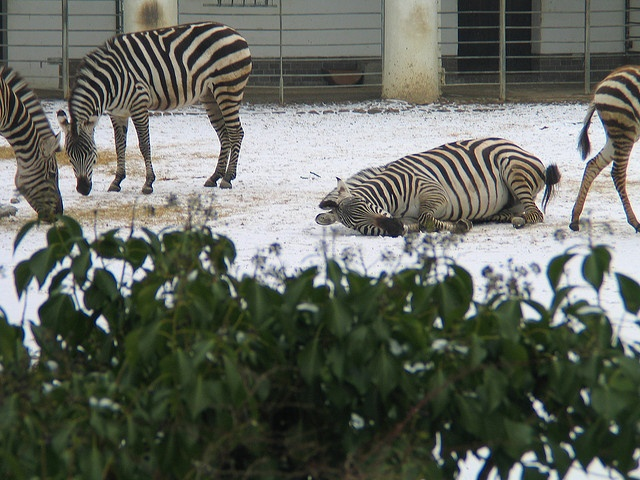zebra: (154, 107, 354, 280), (439, 185, 640, 286), (34, 144, 100, 303), (604, 149, 640, 316)
